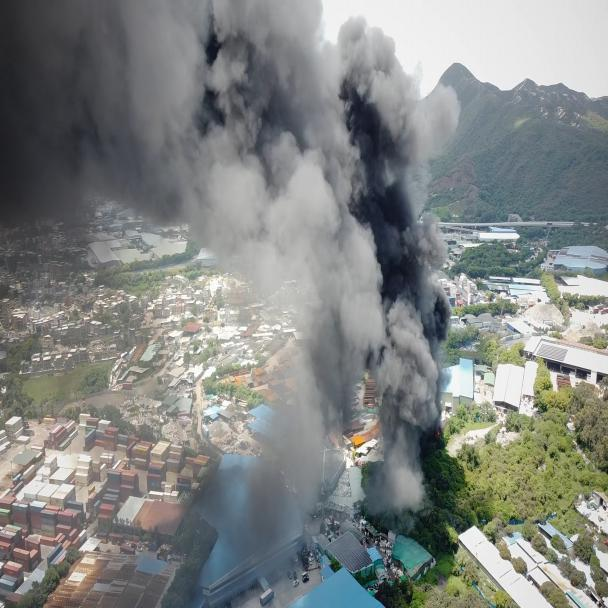smoke: (0, 0, 448, 217), (185, 217, 453, 563)
